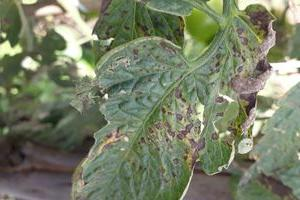Tomato Septoria leaf spot: (68, 4, 274, 200)
